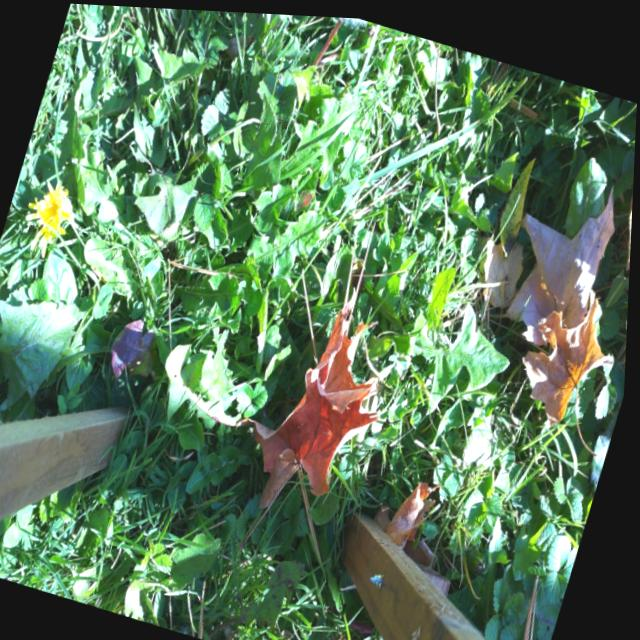base: (298, 38, 334, 85)
